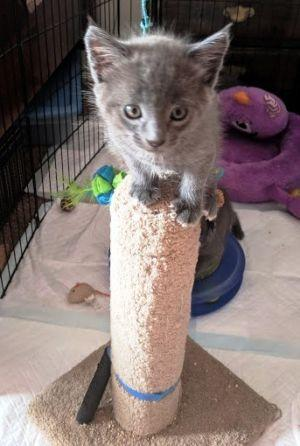rblue: (79, 14, 240, 164)
